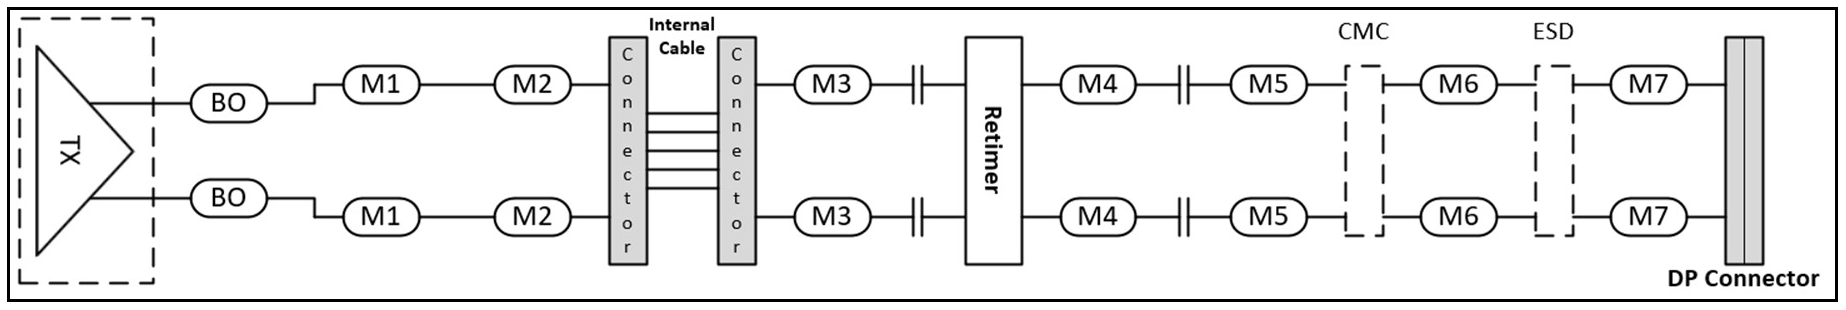capacitor: (1167, 187, 1201, 258), (1169, 58, 1197, 116), (908, 193, 932, 258), (907, 62, 932, 110)
dotted_rectangle: (6, 14, 162, 297), (1341, 62, 1388, 245), (1536, 62, 1580, 245)
oval: (1410, 57, 1512, 118), (1230, 190, 1314, 243), (490, 57, 575, 108), (1054, 194, 1140, 245), (790, 62, 874, 114), (1416, 190, 1493, 242), (1611, 60, 1689, 108), (341, 64, 417, 112), (497, 197, 569, 248), (1058, 66, 1141, 110), (345, 193, 425, 238), (191, 84, 267, 127), (797, 192, 869, 238), (193, 180, 268, 223), (1230, 66, 1308, 106), (1614, 194, 1684, 235)
rectangle: (962, 32, 1023, 271), (1724, 29, 1769, 275), (607, 34, 648, 271), (717, 42, 758, 269)
